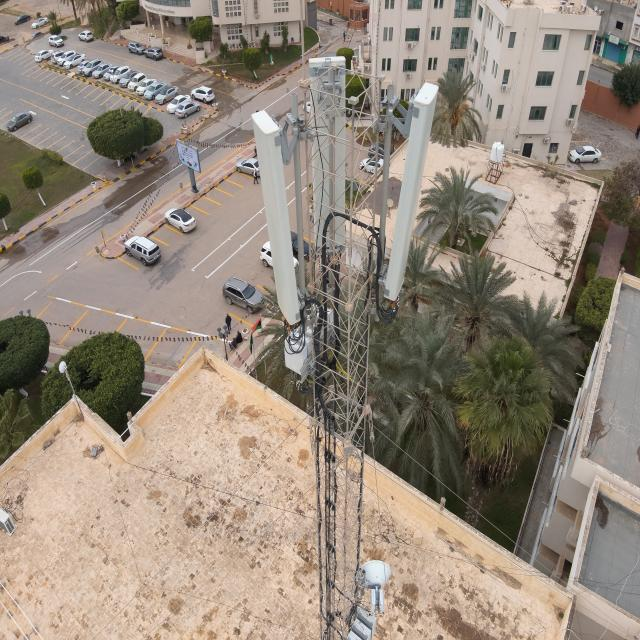antenna: (379, 80, 443, 305), (251, 111, 304, 330), (306, 53, 356, 254)
lighnig-rad: (300, 0, 307, 87)
microware-dish: (357, 554, 393, 614)
power-box: (343, 606, 379, 640)
radio-unit: (285, 297, 335, 370)
